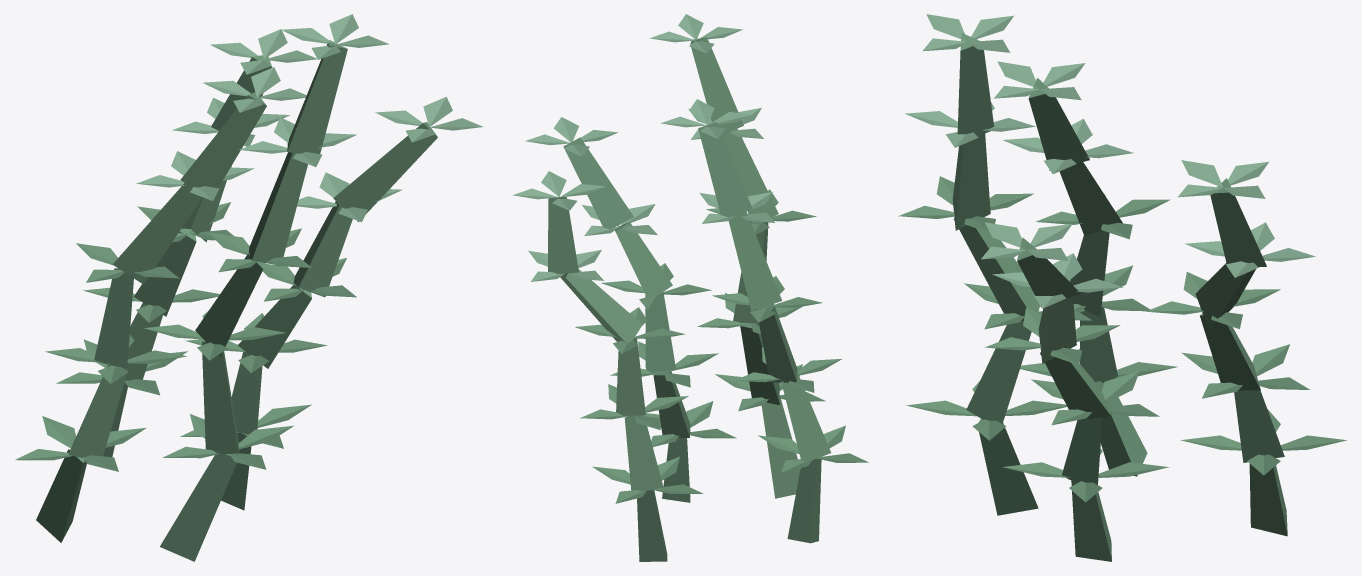
Rendered from shui.huwei@subadult__summer.glb.
3 renders of one model, left to right at view 1: azimuth 30°, elevation 25°; view 2: azimuth 150°, elevation 25°; view 3: azimuth 270°, elevation 25°, orthographic. The views are drawn at different scales.
Parts seen in each view (by area): view 1: shui.huwei@subadult__summer; view 2: shui.huwei@subadult__summer; view 3: shui.huwei@subadult__summer.
Part boxes in pixels (x1=…): shui.huwei@subadult__summer: x1=15, y1=14, x2=482, y2=561; shui.huwei@subadult__summer: x1=513, y1=14, x2=868, y2=561; shui.huwei@subadult__summer: x1=898, y1=14, x2=1346, y2=561.
Bounding box in the file's own units: 0.4348 × 0.4977 × 0.3686.
